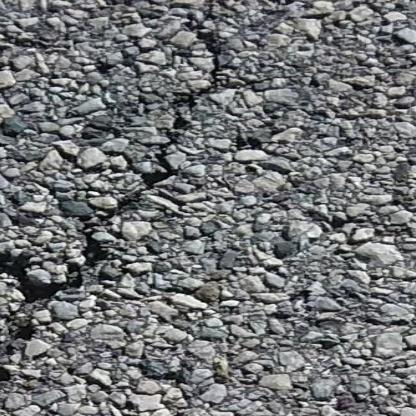Cracks: (0, 0, 296, 306), (0, 260, 39, 416)
